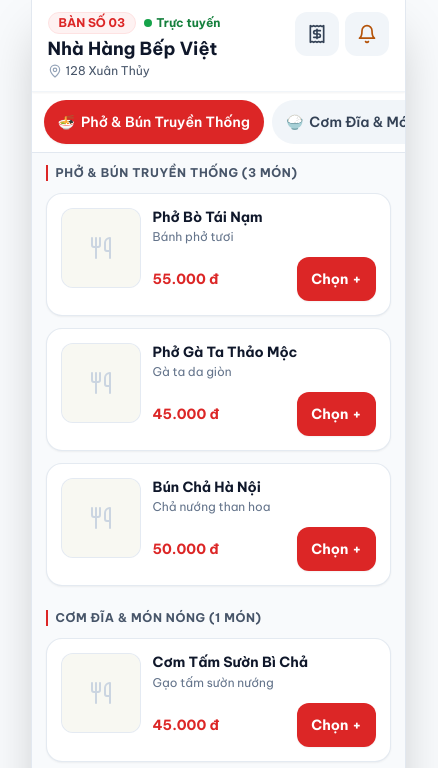
Story C2: Menu theo danh mục (ClientPage) › Story C3: Chọn tuỳ chọn món & Bottom Sheet › adds directly to cart without opening sheet when product has no options (e.g. Phở Gà Ta Thảo Mộc)
Click the button with test id "product-add-btn-2" at (336, 414), box [297,392,376,436]
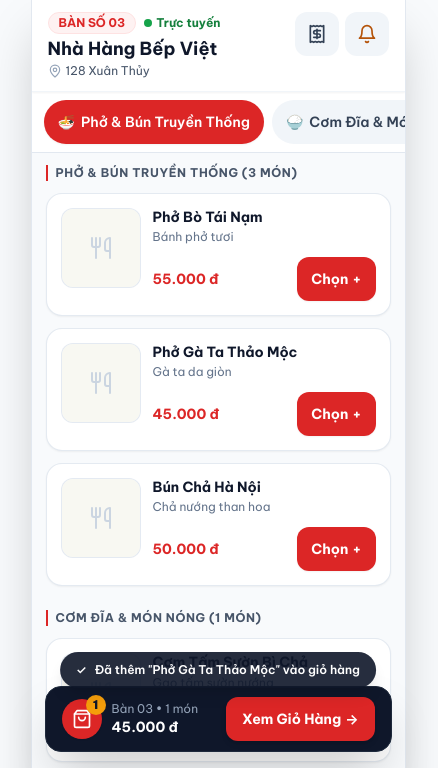
Expected: the text "Đã thêm \"Phở Gà Ta Thảo Mộc\" vào giỏ hàng" is shown, [95,662,360,678]
